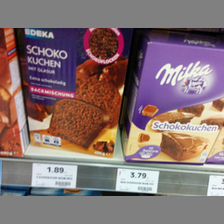cake: (19, 27, 132, 162), (128, 33, 224, 165)
